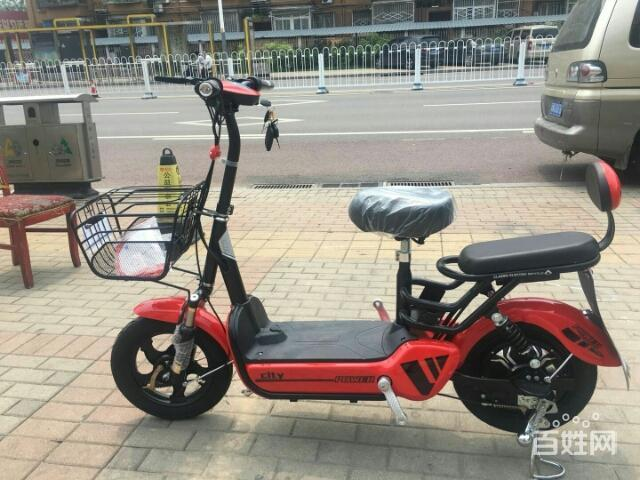电动车: (75, 63, 632, 459)
